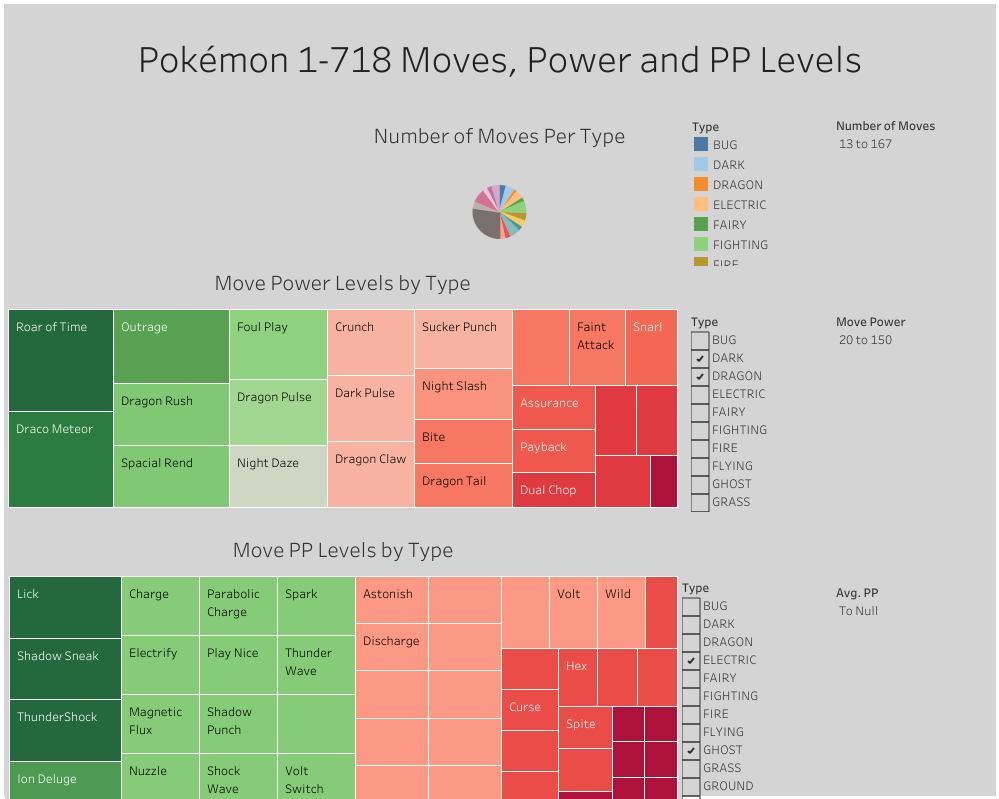

The dashboard page shown, as its layout file describes it:
{"tool":"tableau","page":{"name":"Pokémon Move Data","canvas":[1000,800],"ordinal":0},"visuals":[{"type":"text","box":[0,0,1000,800]},{"type":"text","box":[0,0,1000,115]},{"type":"worksheet","title":"Moves Per Type","mark":"Pie","box":[5,115,989,151]},{"type":"legend","title":"Moves Per Type","param":"[federated.13cylan0kfi9wj1cnmfrr05qpmhg].[none:Type:nk]","box":[691,115,140,151]},{"type":"filter","title":"Moves Per Type","param":"[federated.13cylan0kfi9wj1cnmfrr05qpmhg].[__tableau_internal_object_id__].[cnt:M","box":[836,115,160,62]},{"type":"worksheet","title":"Move Power Levels","mark":"Automatic","box":[4,262,677,250]},{"type":"filter","title":"Move Power Levels","param":"[federated.13cylan0kfi9wj1cnmfrr05qpmhg].[none:Type:nk]","box":[691,311,160,201]},{"type":"filter","title":"Move Power Levels","param":"[federated.13cylan0kfi9wj1cnmfrr05qpmhg].[avg:Power:qk]","box":[836,311,160,62]},{"type":"filter","title":"Move PP Levels","param":"[federated.13cylan0kfi9wj1cnmfrr05qpmhg].[none:Type:nk]","box":[682,577,160,222]},{"type":"filter","title":"Move PP Levels","param":"[federated.13cylan0kfi9wj1cnmfrr05qpmhg].[avg:PP:qk]","box":[836,582,160,62]}]}

Visuals, with their boxes in screenshot pixels (x1, y1, x2, y2), scaled from the page's 1000x800 canvas onto the 999x799 screenshot:
text: [0,0,998,798]
text: [0,0,998,115]
"Moves Per Type" worksheet (Pie marks): [5,115,993,266]
"Moves Per Type" legend: [690,115,830,266]
"Moves Per Type" filter: [835,115,995,177]
"Move Power Levels" worksheet: [4,262,680,511]
"Move Power Levels" filter: [690,311,850,511]
"Move Power Levels" filter: [835,311,995,373]
"Move PP Levels" filter: [681,576,841,798]
"Move PP Levels" filter: [835,581,995,643]
